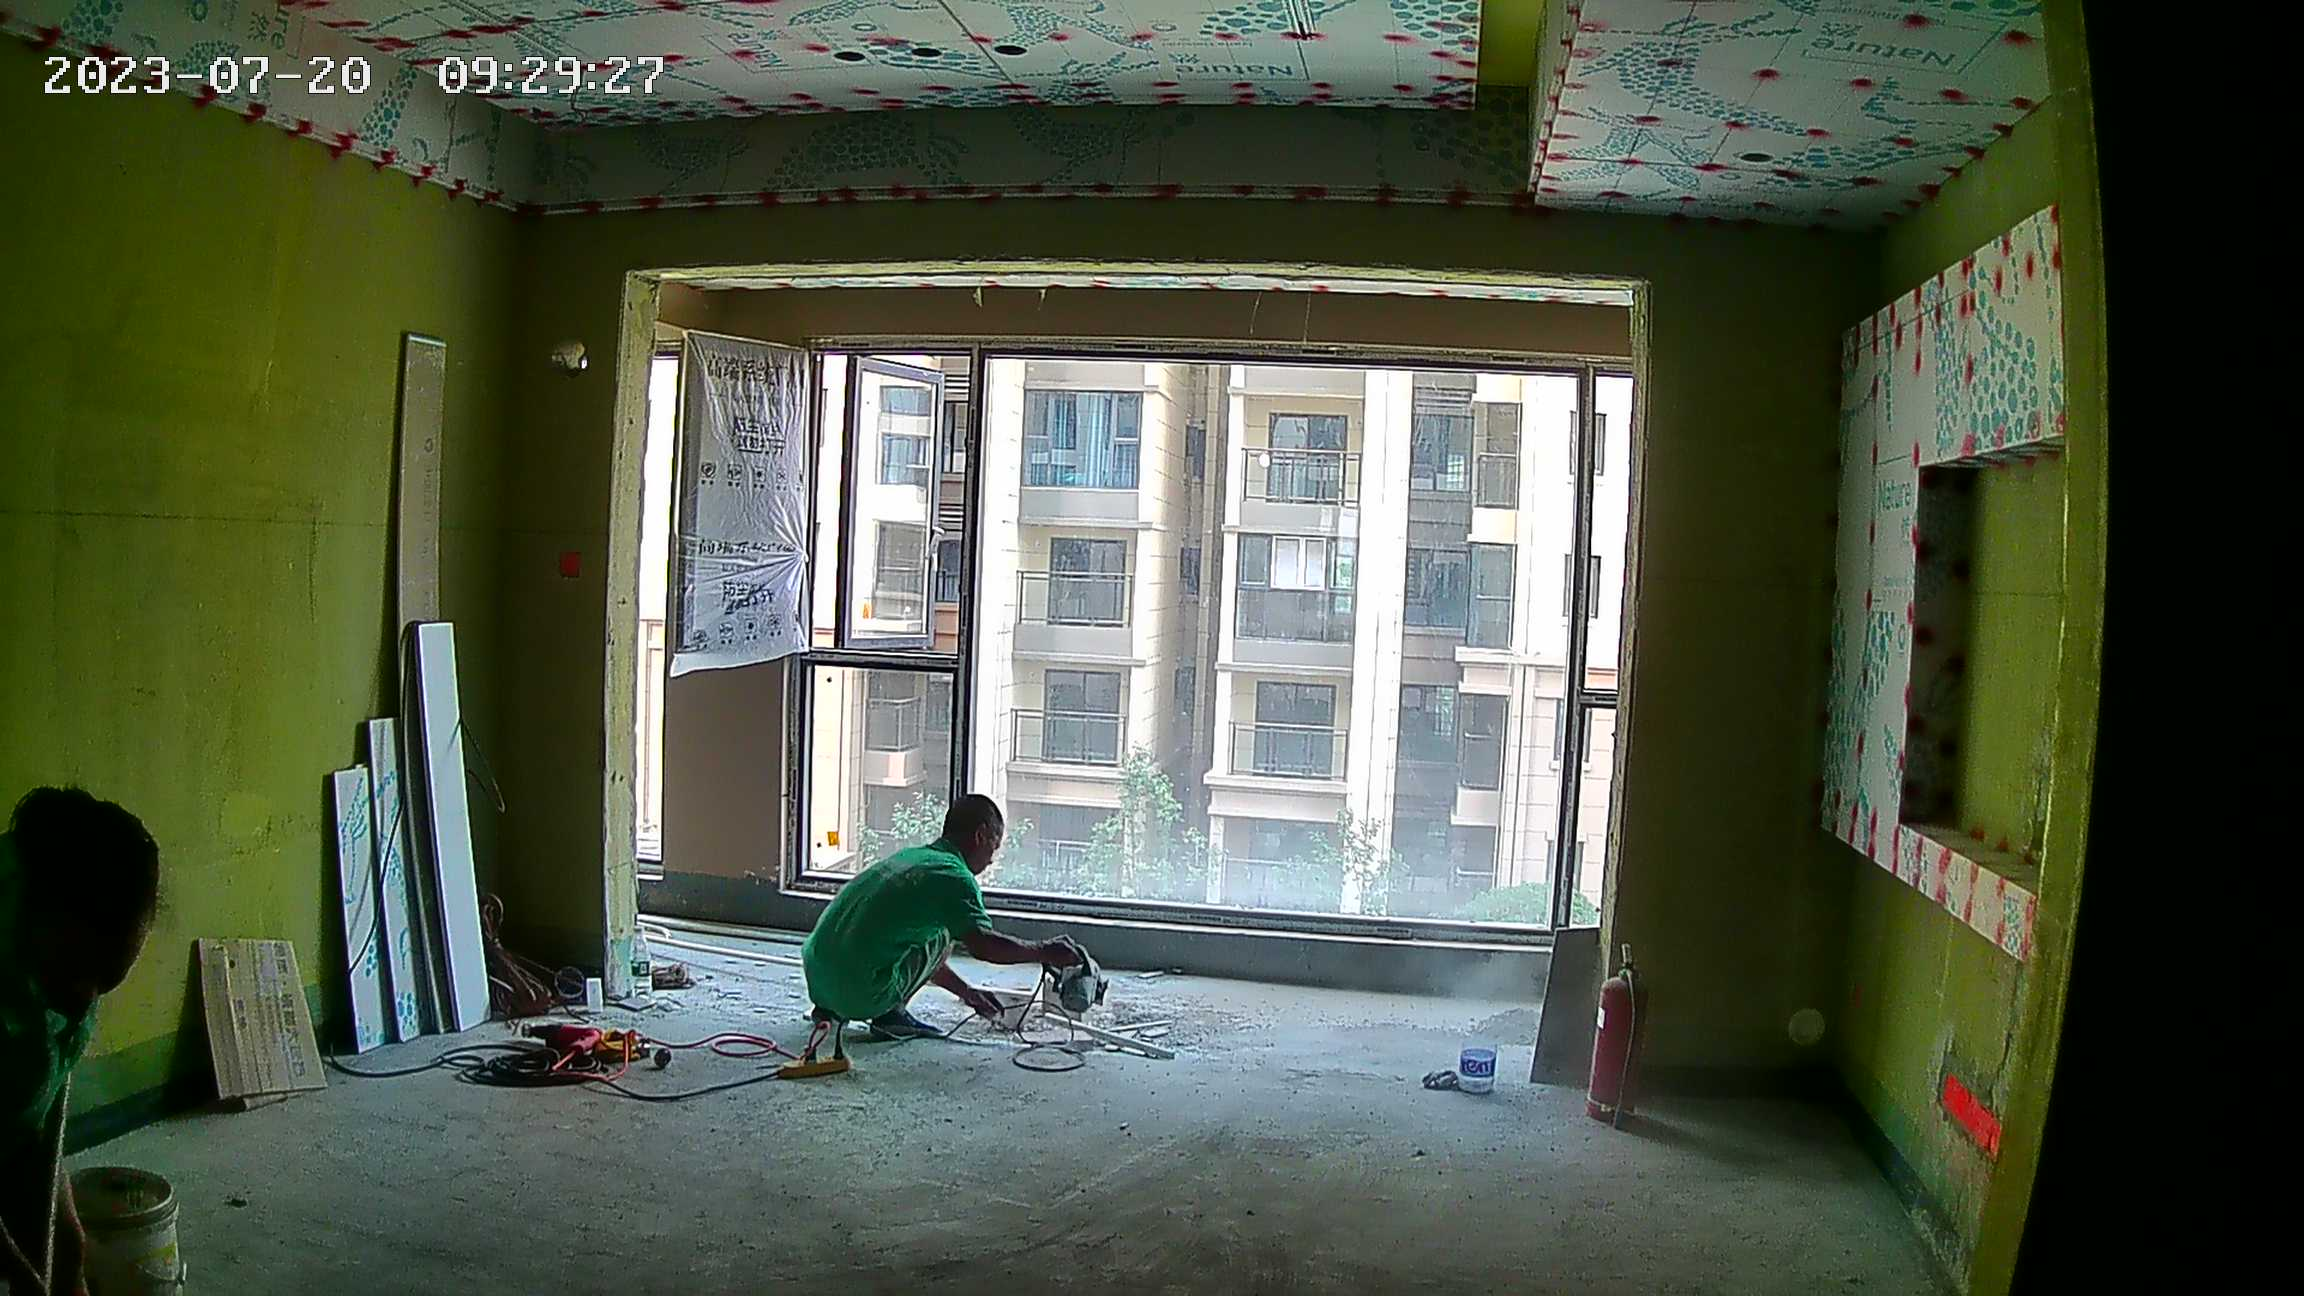people: (1, 780, 160, 1296), (797, 794, 1086, 1040)
window: (810, 344, 1625, 941)
